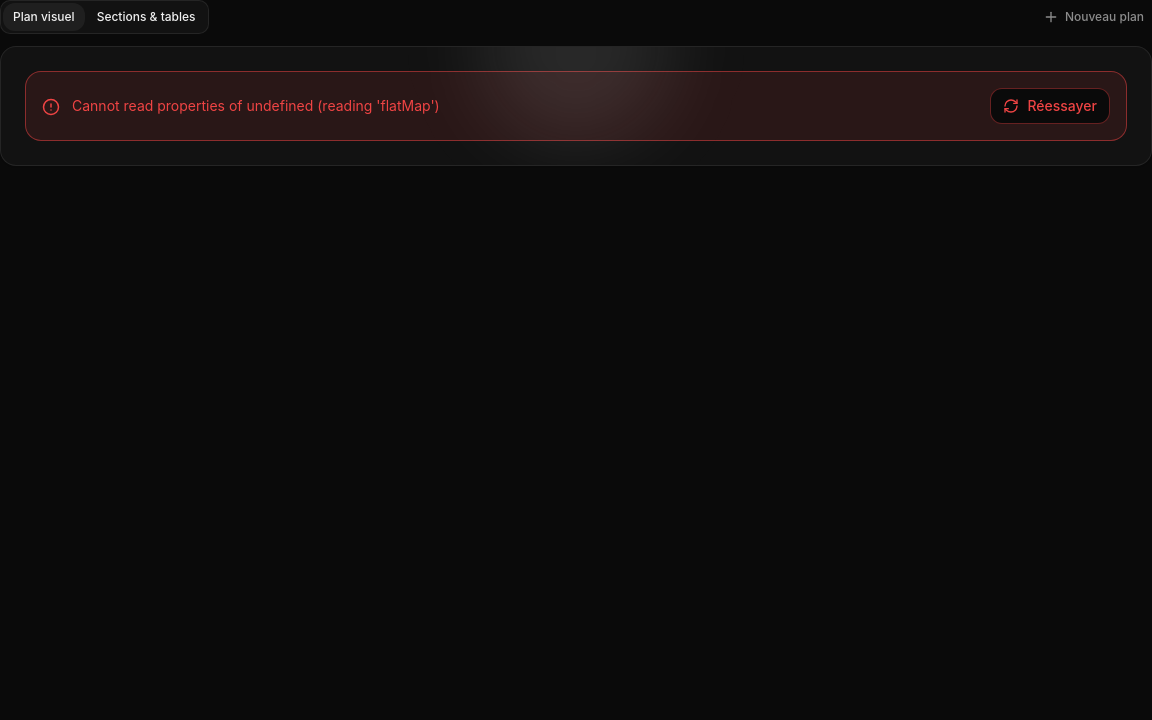
Scenario: FloorPlanPage — switch desktop › garde la fenêtre de création ouverte et affiche l’erreur dedans quand la création échoue
This screenshot has width=1152, height=720.
Click the button with test id "create-floor-plan".
click(1093, 17)  # box [1035,3,1151,31]
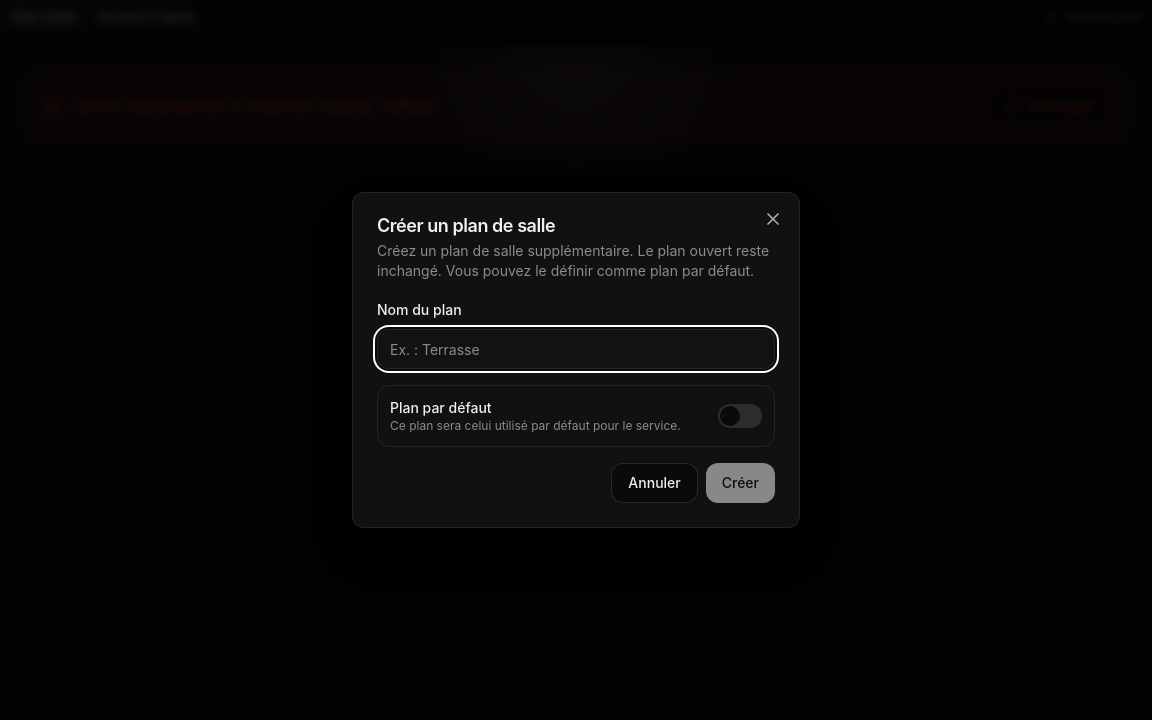
Type "Terrasse" into the field labelled "Nom du plan".
click(576, 349); type("Terrasse")  # box [377,329,775,369]
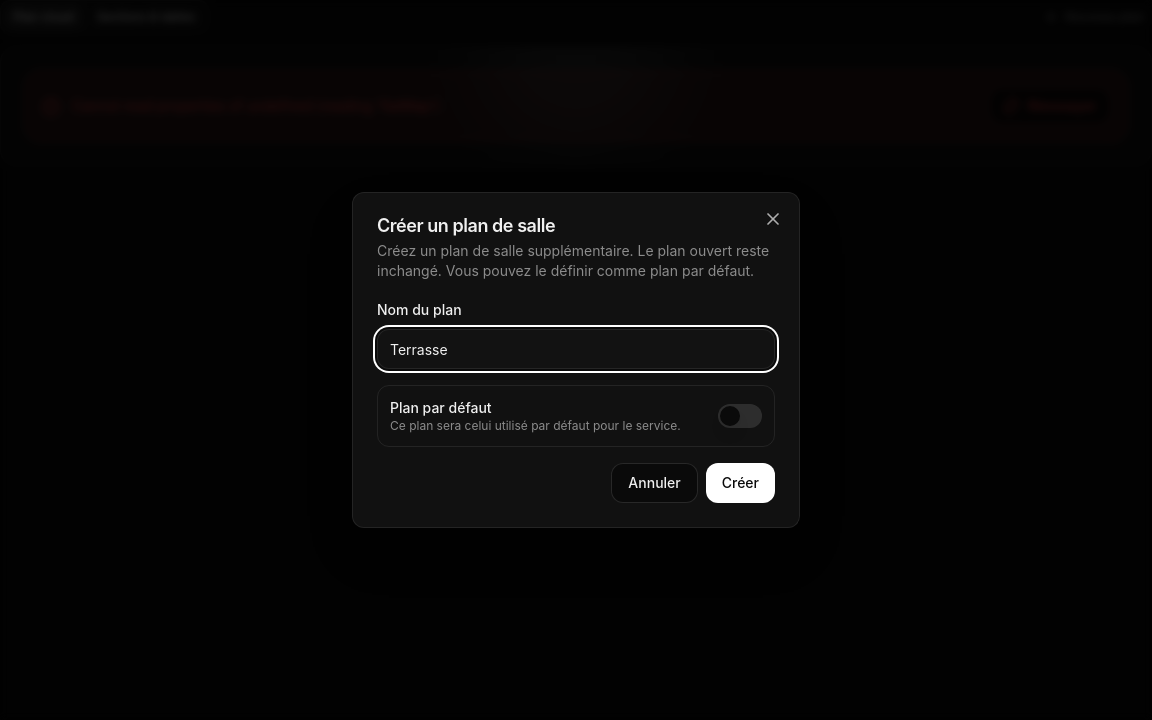
Click the button "Créer".
click(740, 483)  # box [706,463,775,503]
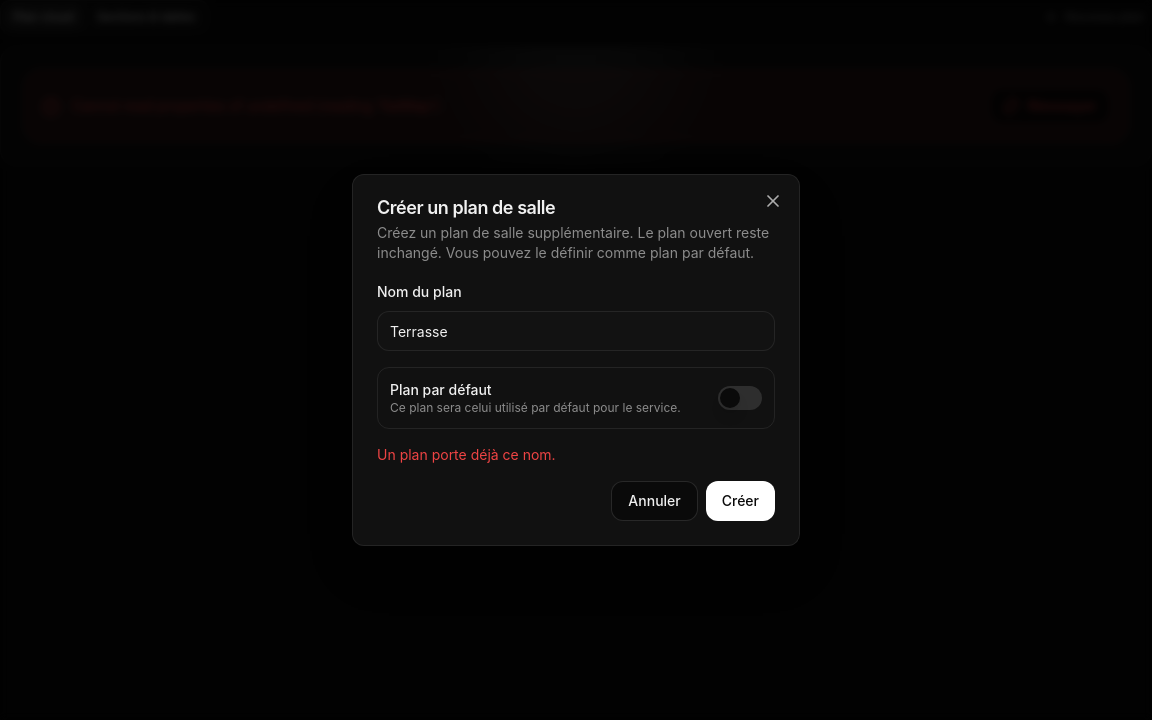
Expected: the dialog is shown, [352,174,800,546]
Expected: the button "Créer" is enabled, [706,481,775,521]
Expected: the message reads "Un plan porte déjà ce nom.", [377,446,556,463]
Replace the text in the field labelled "Nom du plan" with "Terrasse 2" at (576, 331), box [377,311,775,351]
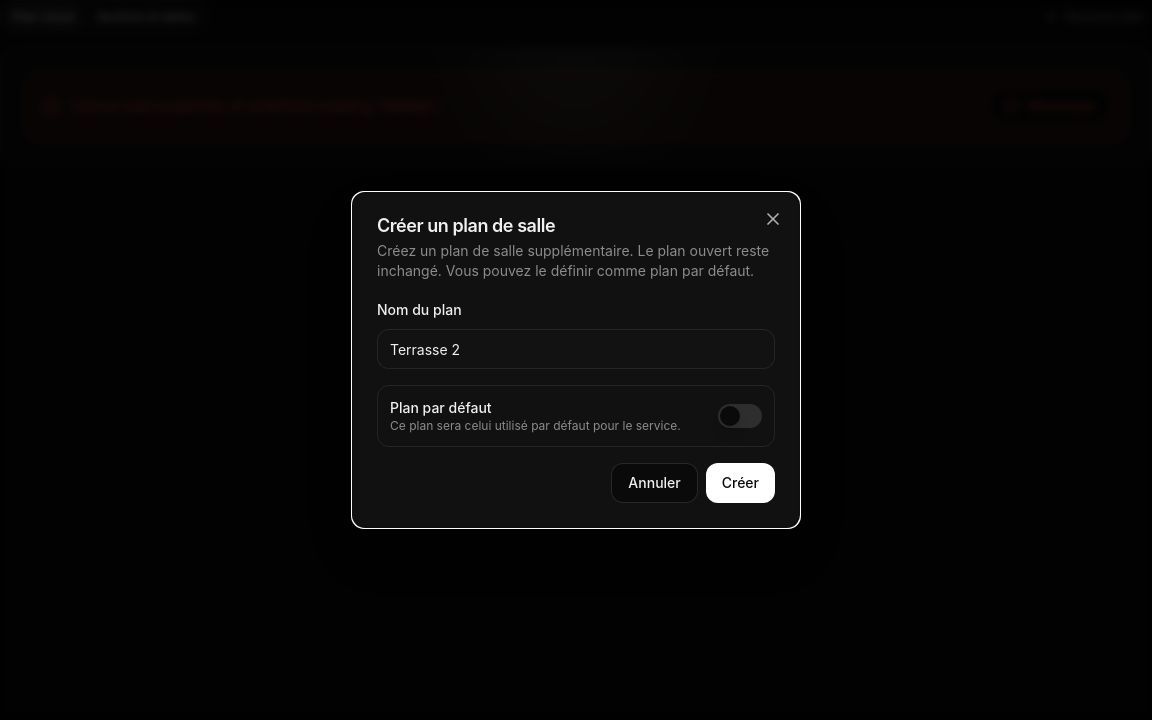
Expected: the message "Un plan porte déjà ce nom." is gone
